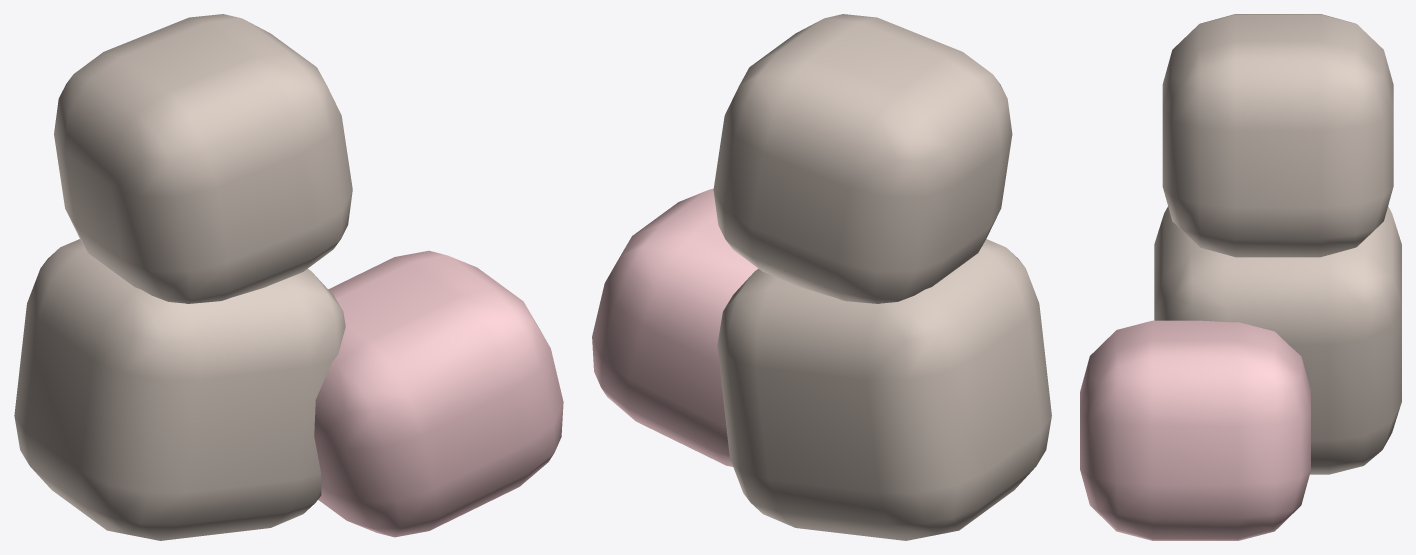
Rendered from marshmallow-stack.glb.
3 renders of one model, left to right at view 1: azimuth 30°, elevation 25°; view 2: azimuth 150°, elevation 25°; view 3: azimuth 270°, elevation 25°, orthographic. The views are drawn at different scales.
Parts seen in each view (by area): view 1: Pillow marshmallow, Pillow marshmallow.002, Pillow marshmallow.001; view 2: Pillow marshmallow, Pillow marshmallow.002, Pillow marshmallow.001; view 3: Pillow marshmallow.002, Pillow marshmallow.001, Pillow marshmallow.
Part boxes in pixels (x1,y1,x2,y2): Pillow marshmallow: (14,239,345,540); Pillow marshmallow.002: (54,14,352,303); Pillow marshmallow.001: (314,250,563,537); Pillow marshmallow: (717,239,1051,540); Pillow marshmallow.002: (713,14,1012,303); Pillow marshmallow.001: (592,188,758,466); Pillow marshmallow.002: (1162,14,1393,257); Pillow marshmallow.001: (1080,320,1310,540); Pillow marshmallow: (1154,206,1401,474).
Bounding box in the file's own units: 1.4 × 1.43 × 0.975.
